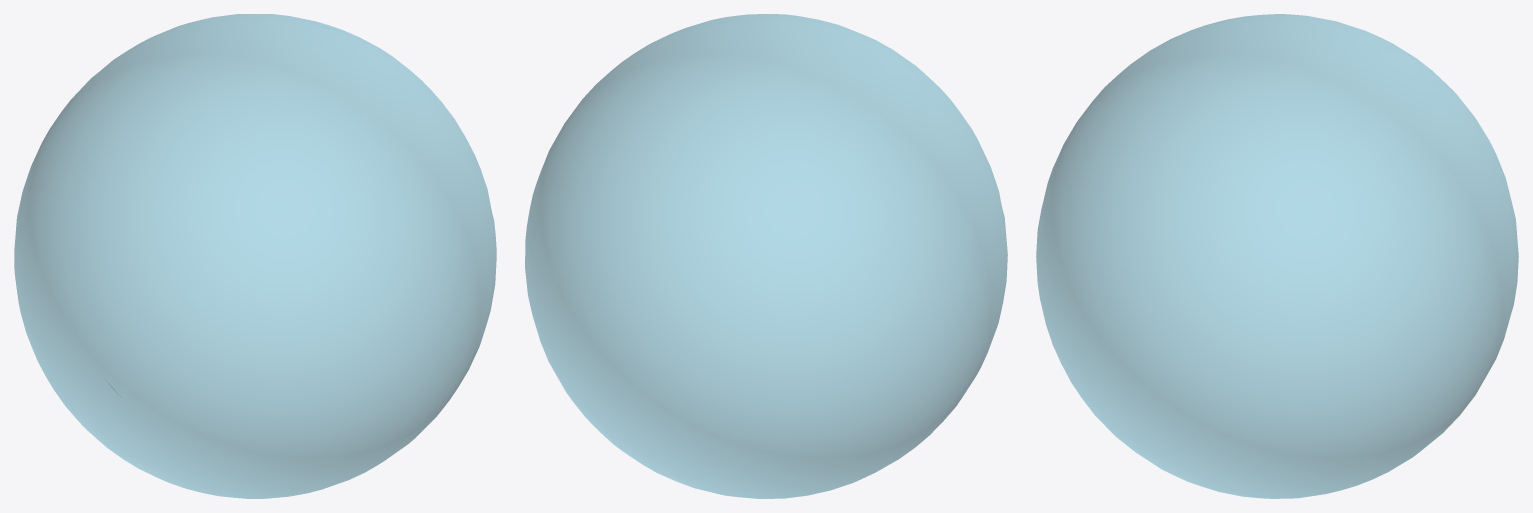
File: glass_sphere.glb
3 renders of one model, left to right at view 1: azimuth 30°, elevation 25°; view 2: azimuth 150°, elevation 25°; view 3: azimuth 270°, elevation 25°, orthographic.
Parts seen in each view (by area): view 1: Sphere_0; view 2: Sphere_0; view 3: Sphere_0.
Boxes of the visible parts, x1=… form: Sphere_0: x1=14, y1=14, x2=496, y2=498; Sphere_0: x1=525, y1=14, x2=1007, y2=498; Sphere_0: x1=1036, y1=14, x2=1518, y2=498.
Bounding box in the file's own units: 5.47 × 5.53 × 5.47.
